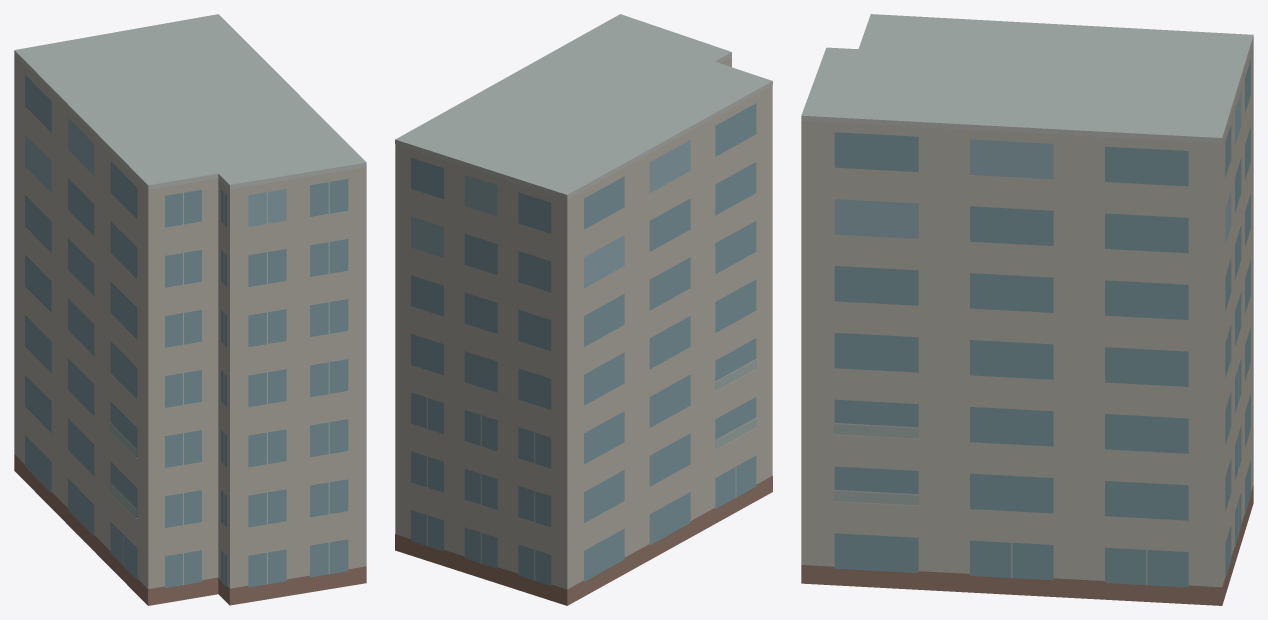
File: survey-upis-32794178.glb
3 views of the same model, side by side, from view 1: azimuth 30°, elevation 25°; view 2: azimuth 150°, elevation 25°; view 3: azimuth 270°, elevation 25° (orthographic). The views are drawn at different scales.
Parts seen in each view (by area): view 1: survey-upis-32794178.tmp; view 2: survey-upis-32794178.tmp; view 3: survey-upis-32794178.tmp.
Part boxes in pixels (x1=…): survey-upis-32794178.tmp: x1=14, y1=14, x2=366, y2=605; survey-upis-32794178.tmp: x1=395, y1=14, x2=772, y2=605; survey-upis-32794178.tmp: x1=801, y1=14, x2=1253, y2=605.
Bounding box in the file's own units: 13.03 × 22.9 × 20.08.
